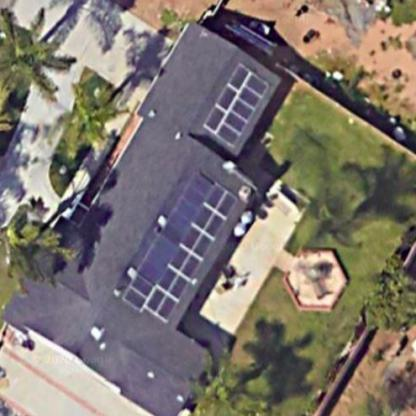solar_panel: (108, 178, 262, 324), (197, 53, 270, 159)
